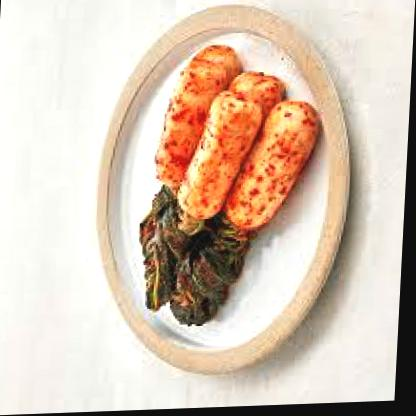chonggak Kimchi: (133, 52, 313, 332)
